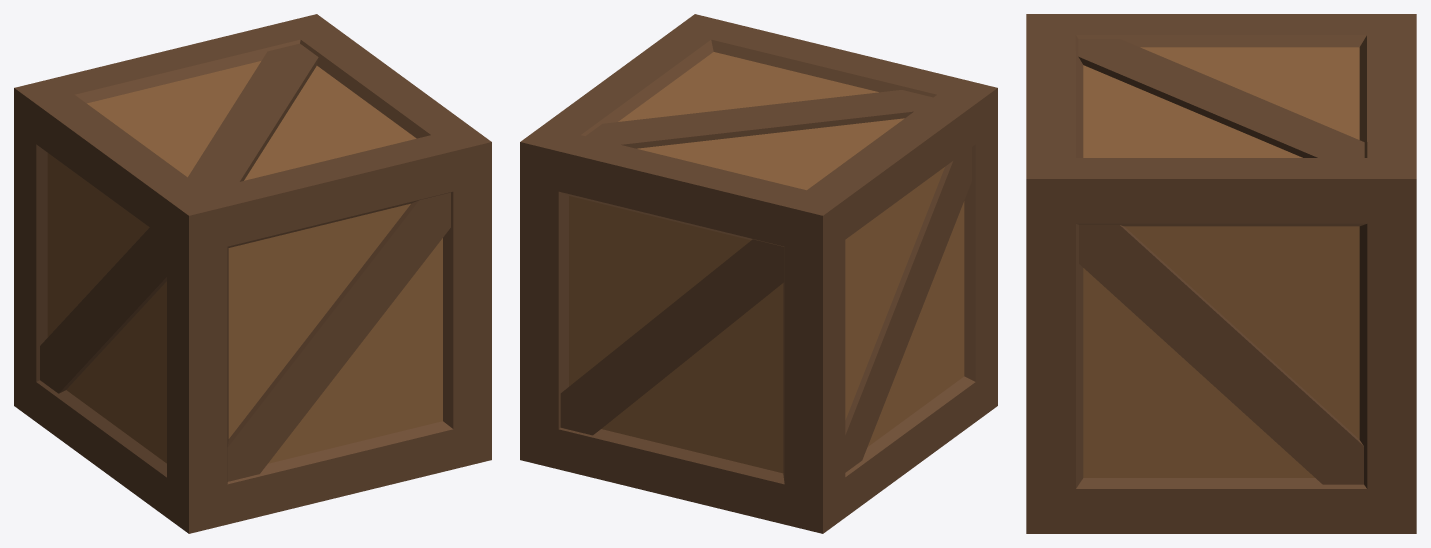
3 views of the same model, side by side, from view 1: azimuth 30°, elevation 25°; view 2: azimuth 150°, elevation 25°; view 3: azimuth 270°, elevation 25° (orthographic). The views are drawn at different scales.
Parts seen in each view (by area): view 1: Box_mat; view 2: Box_mat; view 3: Box_mat.
Part boxes in pixels (left/top/right/bottom): Box_mat: left=14, top=14, right=491, bottom=533; Box_mat: left=520, top=14, right=997, bottom=533; Box_mat: left=1026, top=14, right=1416, bottom=533.
Bounding box in the file's own units: 0.6234 × 0.6256 × 0.6234.
